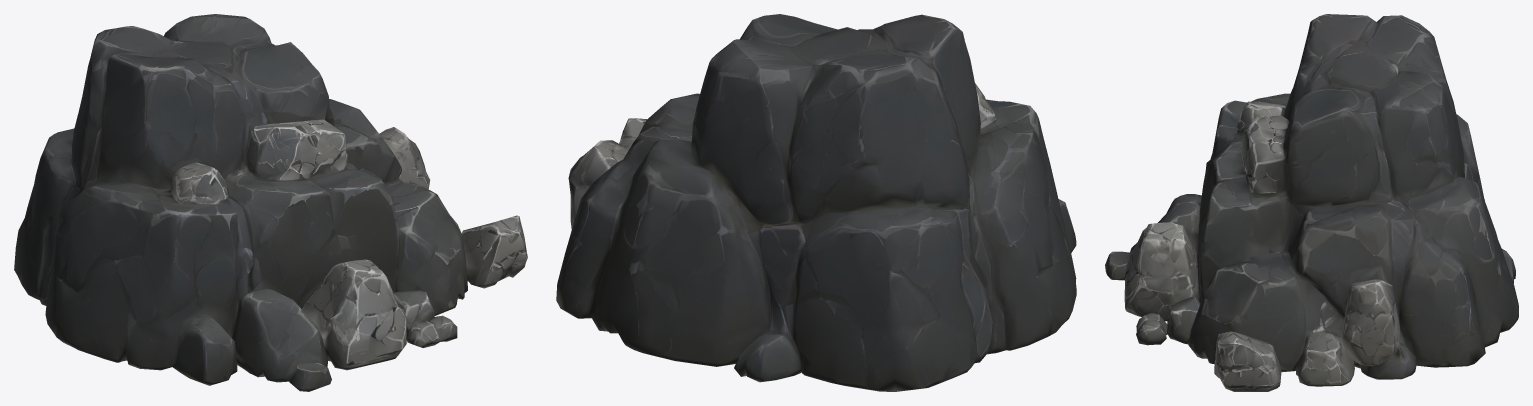
File: rock_pile.glb
3 renders of one model, left to right at view 1: azimuth 30°, elevation 25°; view 2: azimuth 150°, elevation 25°; view 3: azimuth 270°, elevation 25°, orthographic. The views are drawn at different scales.
Visible parts, largest first — view 1: tripo_node_35933709-8e4a-421f-b8fc-79d2219a4233; view 2: tripo_node_35933709-8e4a-421f-b8fc-79d2219a4233; view 3: tripo_node_35933709-8e4a-421f-b8fc-79d2219a4233.
Boxes of the visible parts, box(x1,y1,x2,y2) form: tripo_node_35933709-8e4a-421f-b8fc-79d2219a4233: box(14, 14, 527, 391); tripo_node_35933709-8e4a-421f-b8fc-79d2219a4233: box(556, 14, 1076, 391); tripo_node_35933709-8e4a-421f-b8fc-79d2219a4233: box(1105, 14, 1518, 391).
Bounding box in the file's own units: 1 × 0.5815 × 0.9209.
Materials: 1 (1 with a texture image).
